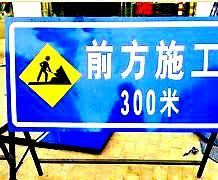sign: (7, 19, 216, 131)
